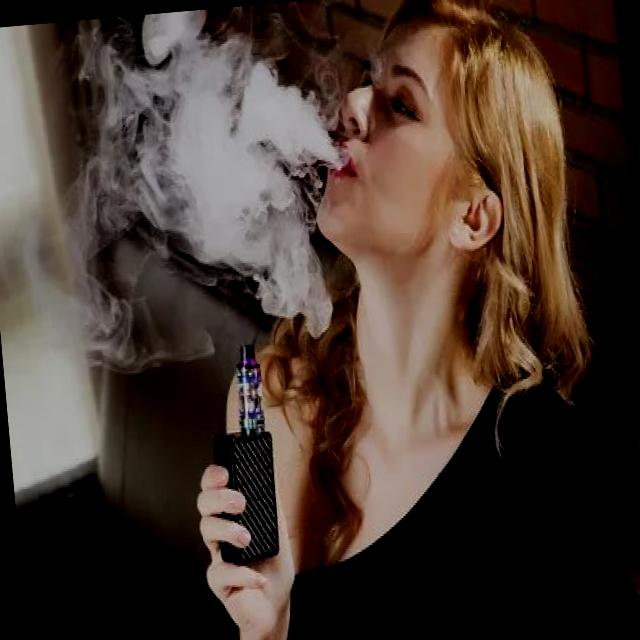cigarette: (204, 335, 285, 569)
